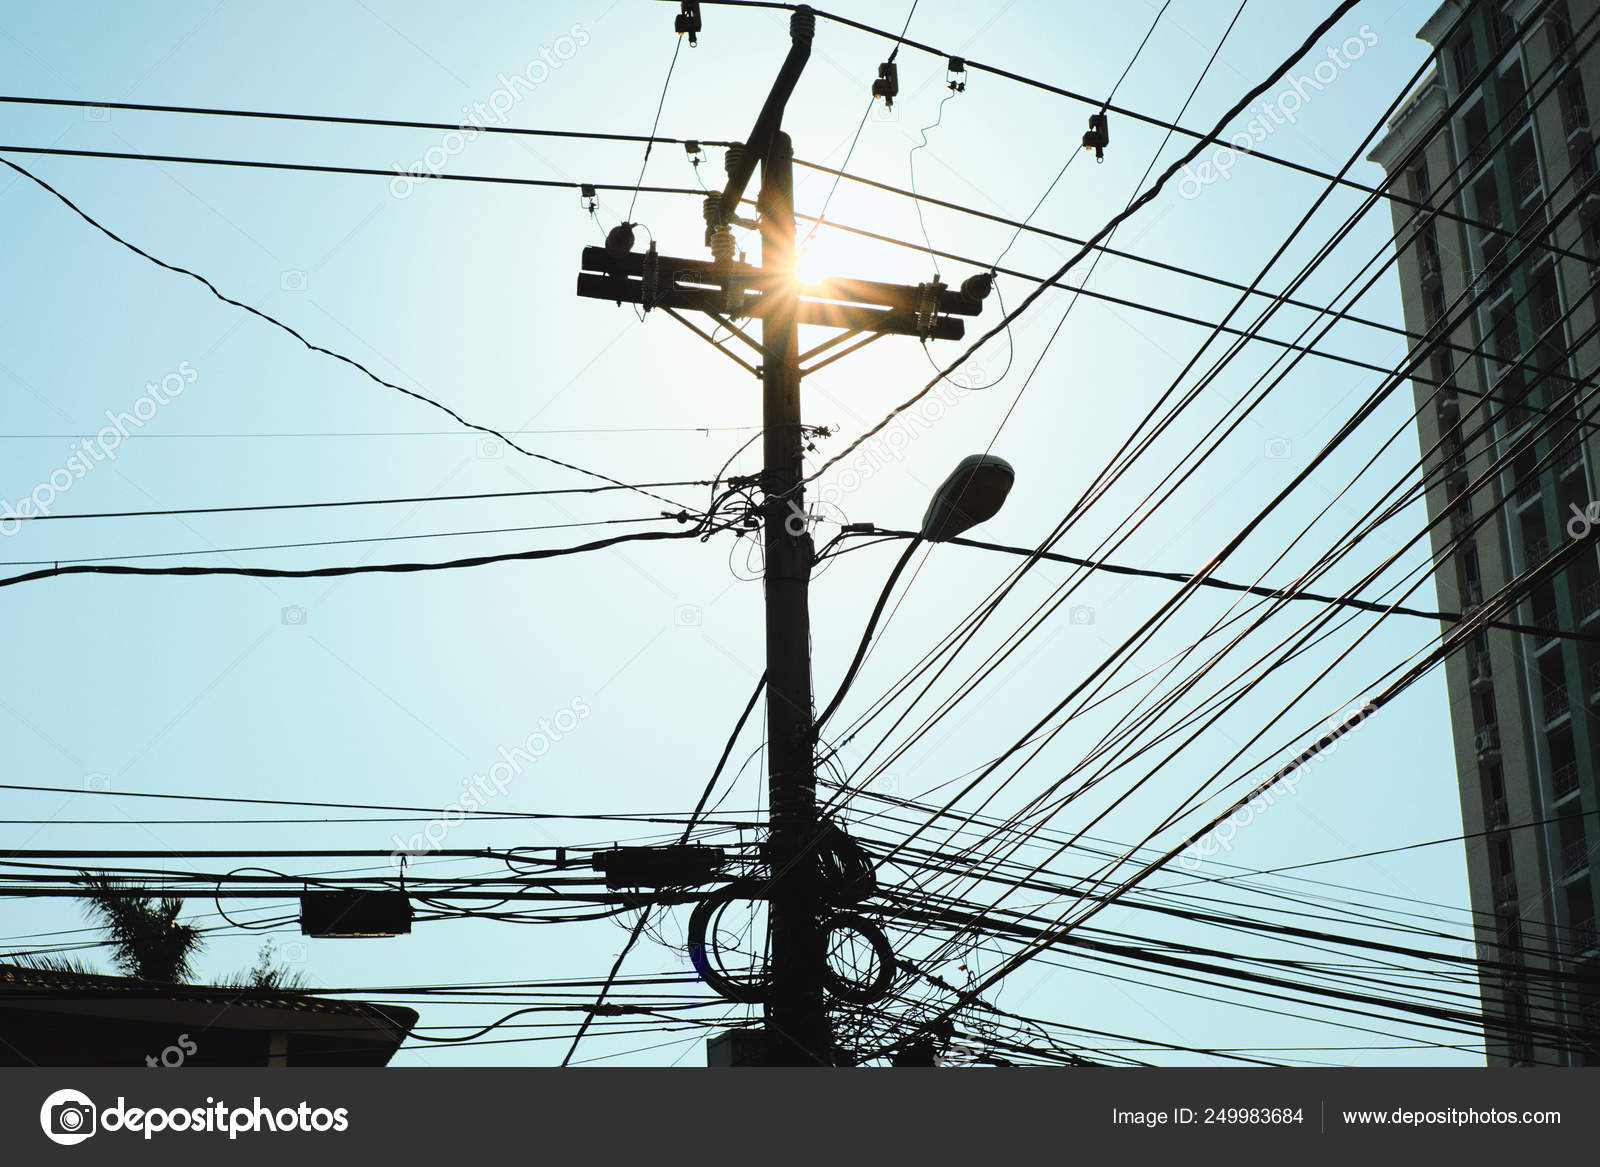utility_pole: (553, 112, 998, 437)
